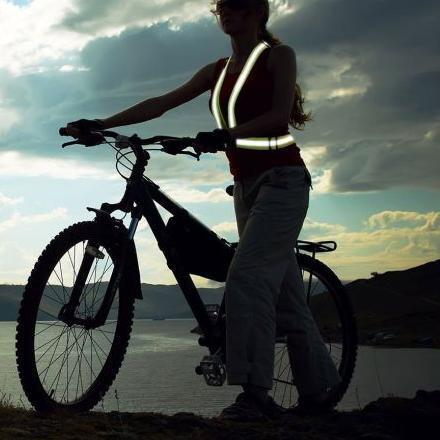Vest: (212, 45, 299, 152)
